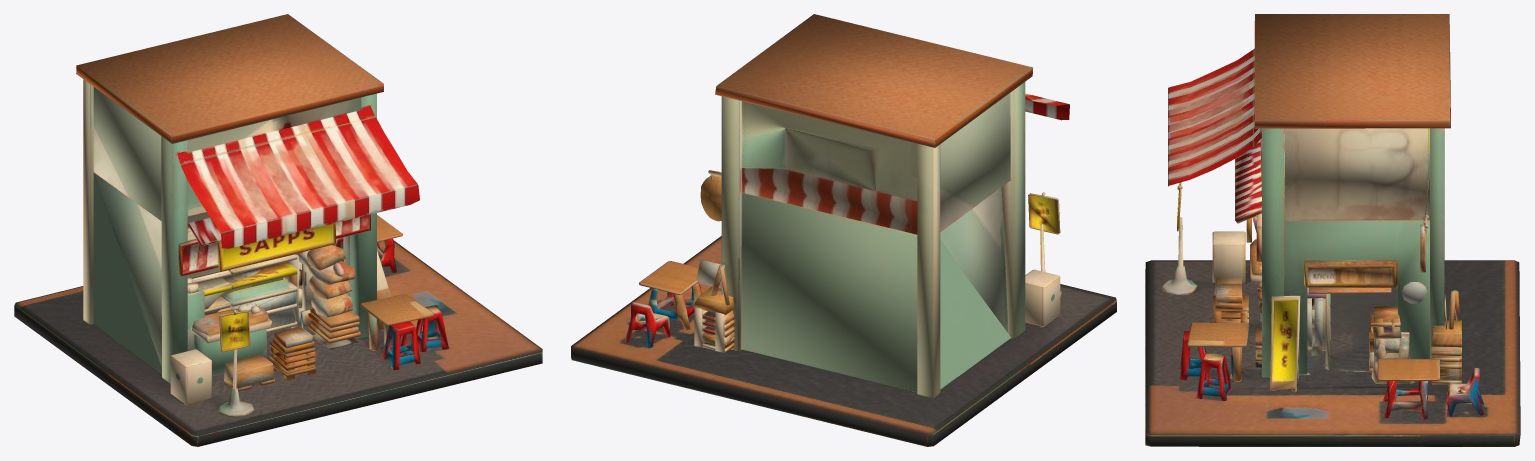
The model's file is shop.glb.
The picture shows the model from 3 angles, left to right: view 1: azimuth 30°, elevation 25°; view 2: azimuth 150°, elevation 25°; view 3: azimuth 270°, elevation 25°; orthographic projection. The views are drawn at different scales.
Bounding box in the file's own units: 0.9575 × 0.6978 × 0.8662.
1 material, 1 textured.
